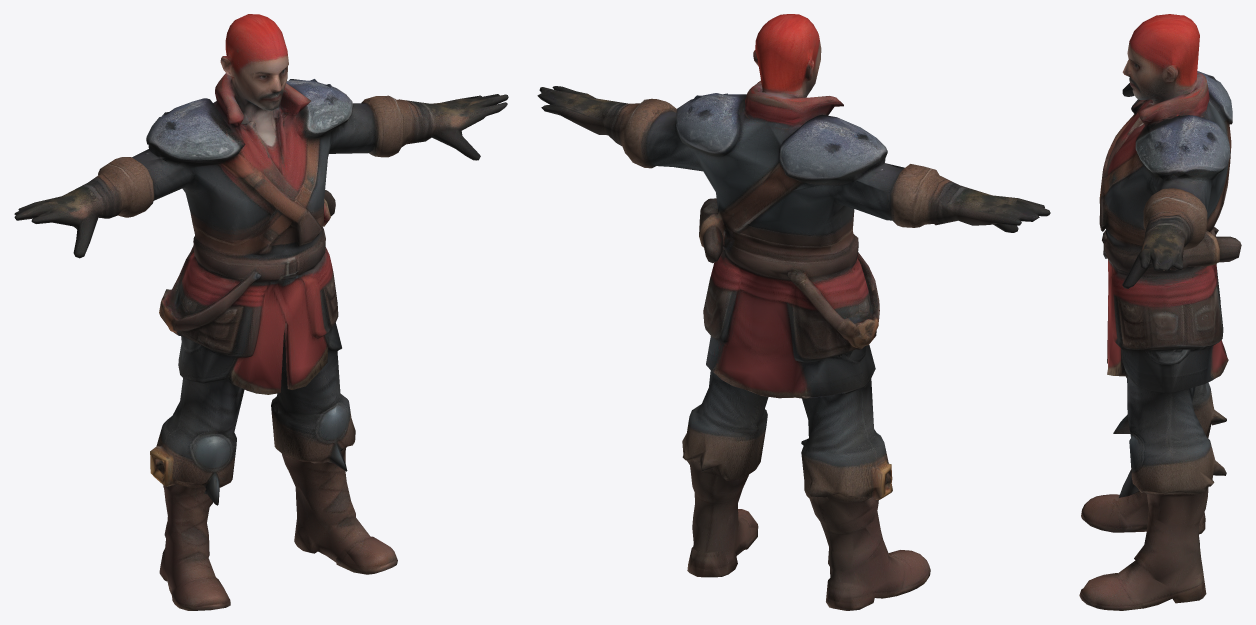
Rendered from bandit_capt.glb.
3 views of the same model, side by side, from view 1: azimuth 30°, elevation 25°; view 2: azimuth 150°, elevation 25°; view 3: azimuth 270°, elevation 25° (orthographic). The views are drawn at different scales.
Size of the model in its own units: 1.89 by 2 by 0.5403.
1 material, 1 textured.
